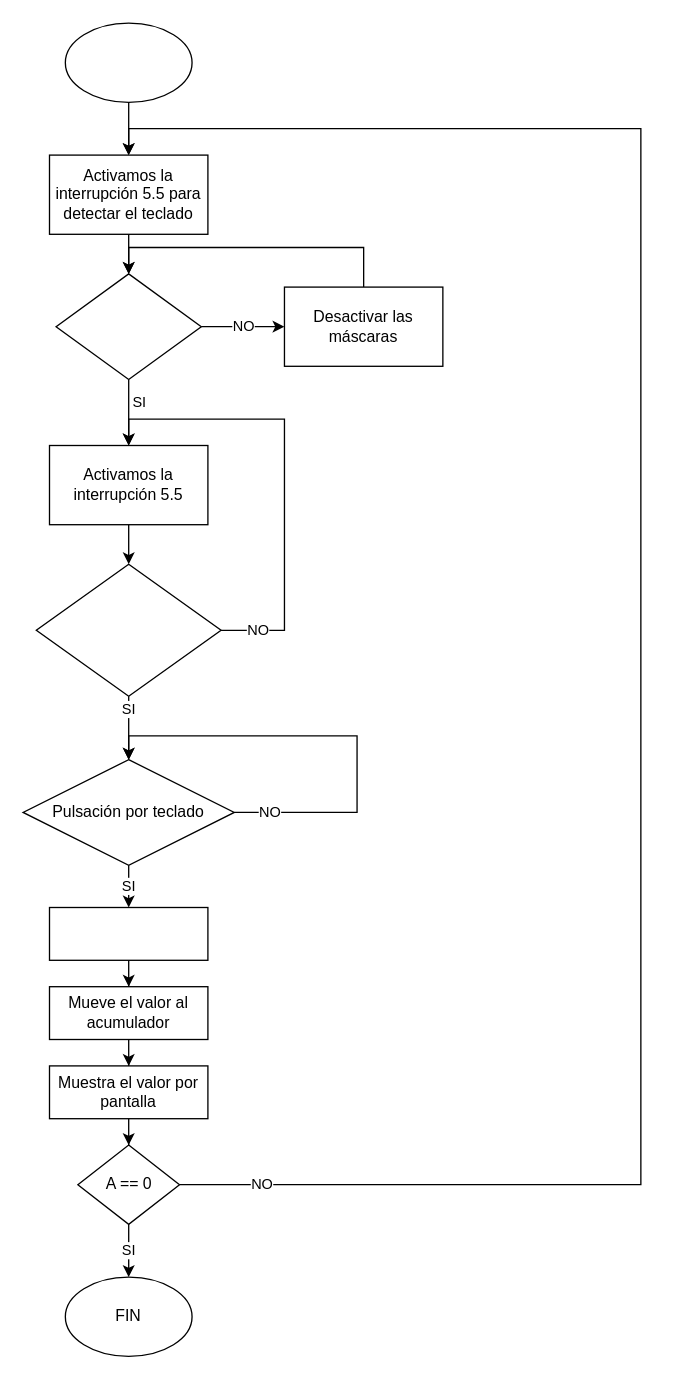
This 675x1379 diagram has some shape labels left out. The shapes that lost their labels are listed below. From the top down, each one's box as (x1, y1, x2, y2) in pixels, then its label:
(64, 22, 192, 102): INICIO
(55, 273, 201, 380): Máscaras desactivadas
(35, 563, 221, 696): Interrupción activada
(48, 906, 208, 960): Guarda la tecla ASCII
